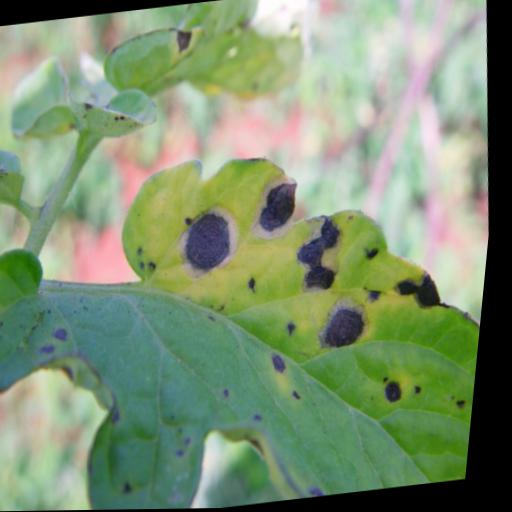Early Blight: (0, 124, 502, 512), (98, 0, 316, 112)
